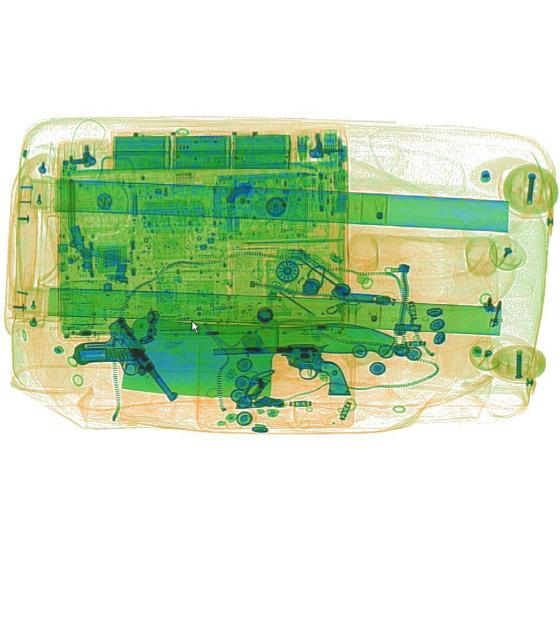Gun: (68, 310, 178, 434), (214, 341, 348, 397)
Knife: (120, 316, 394, 402)
